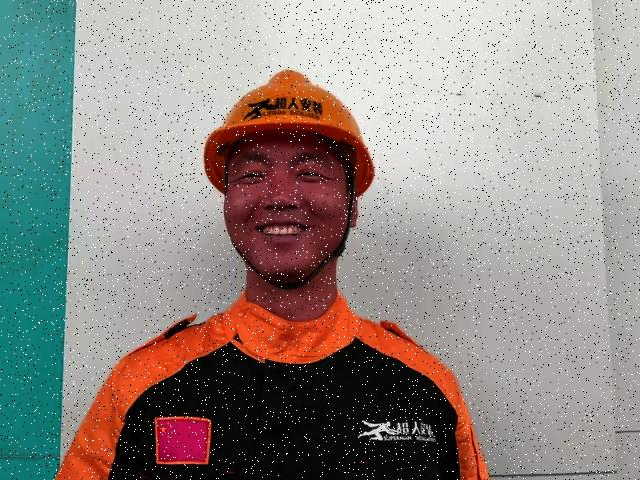Helmet: (195, 65, 380, 200)
